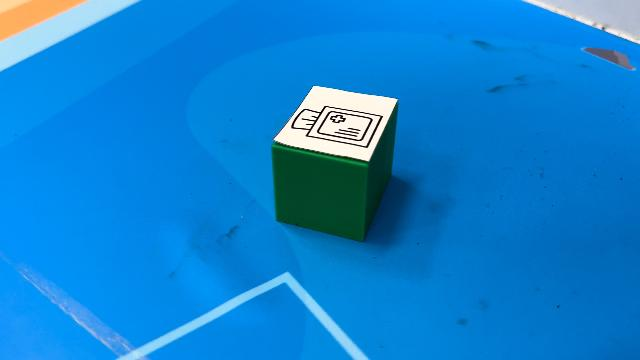napkin: (270, 84, 400, 243)
